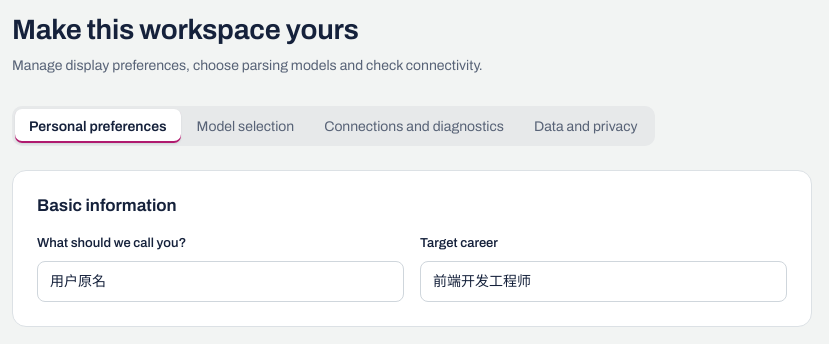
Test case: keeps settings tabs navigable after switching language in place
The image size is (829, 344).
Click the button "Model selection" at (245, 126), box [183,109,308,143]
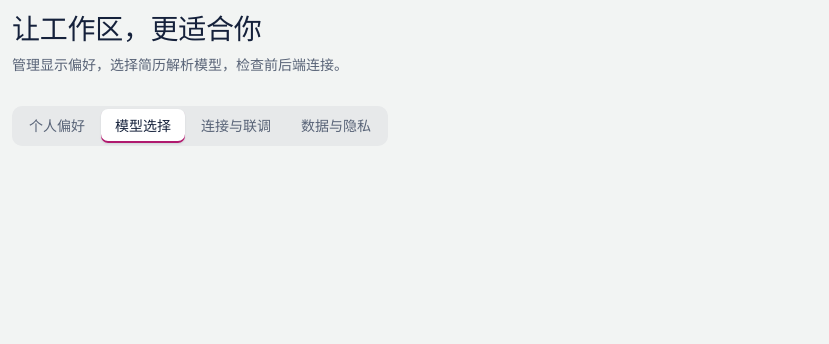
expect the button with class "selected" reads "模型选择": met, box [101,109,185,143]
